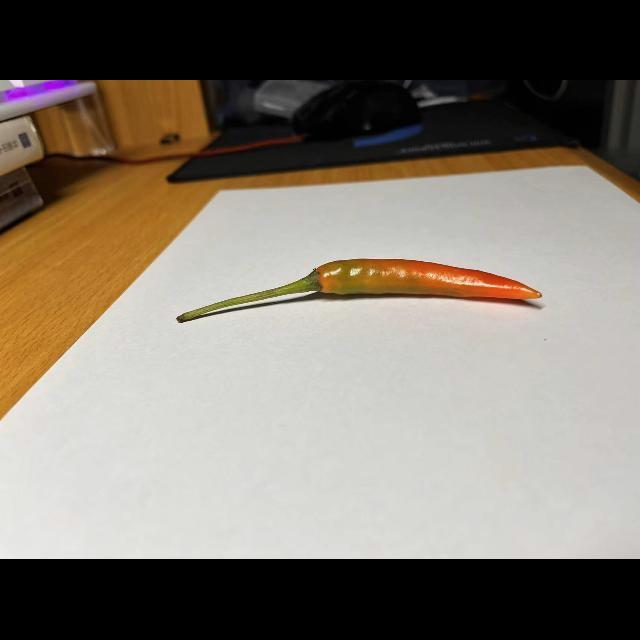chili_pepper: (175, 254, 545, 331)
